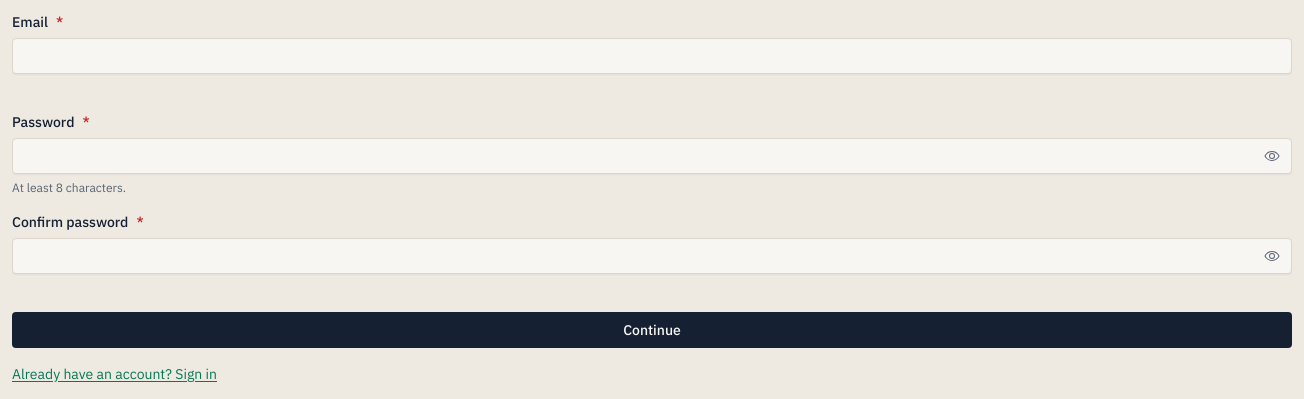
SignupForm › flags a mismatched confirmation password inline, without submitting
Type "a@b.com" into the field labelled "Email *" at (652, 56), box [12,38,1292,74]
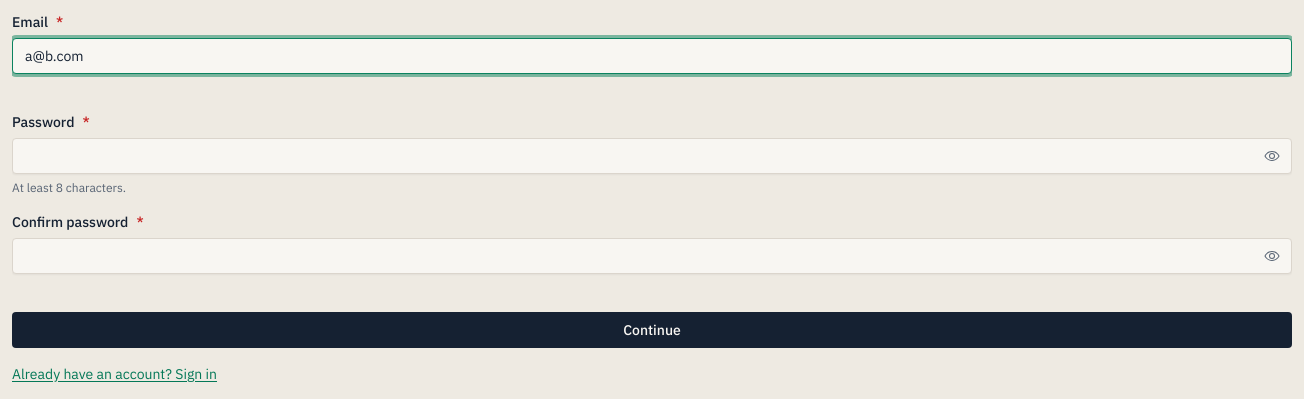
Type "password123" into the password field labelled "Password *" at (652, 156), box [12,138,1292,174]
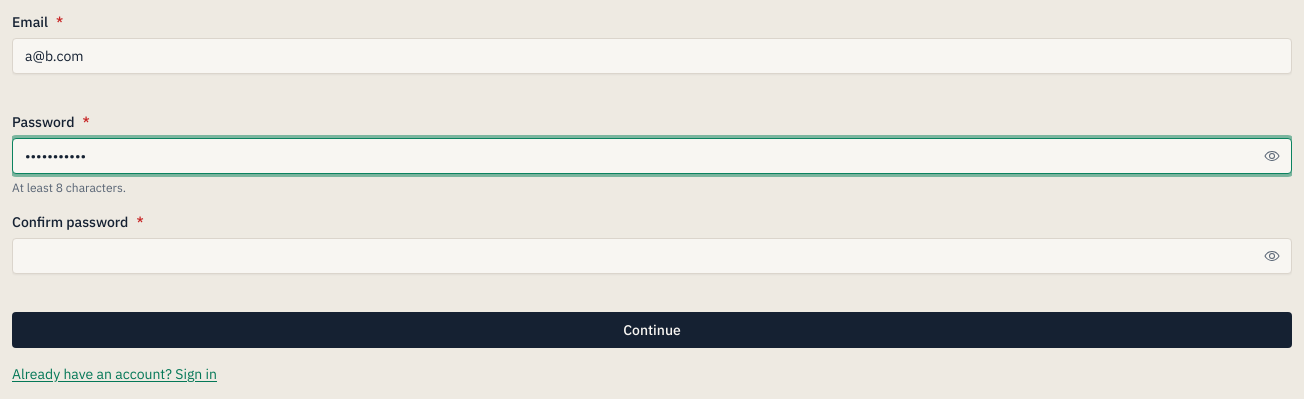
Type "different123" into the password field labelled "Confirm password *" at (652, 256), box [12,238,1292,274]
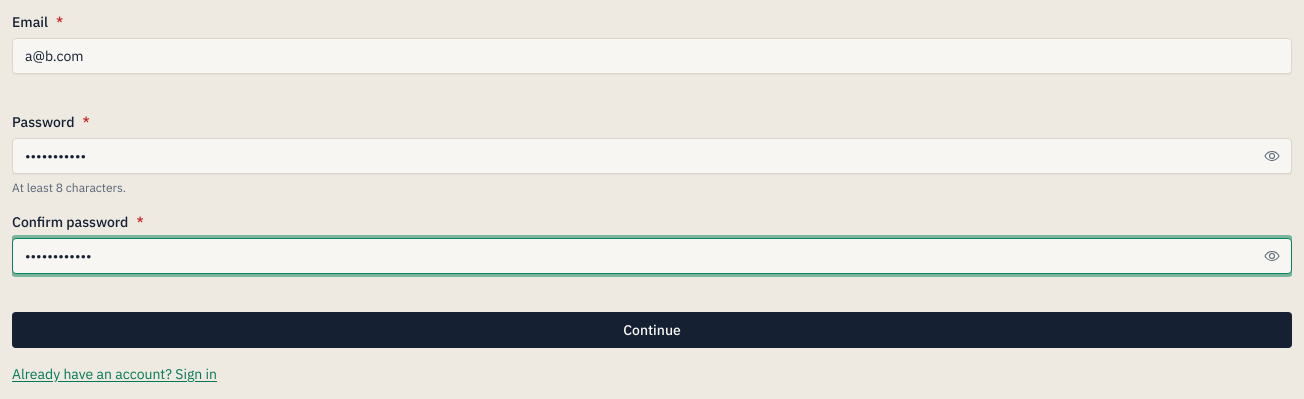
Click the button "Continue" at (652, 330), box [12,312,1292,348]
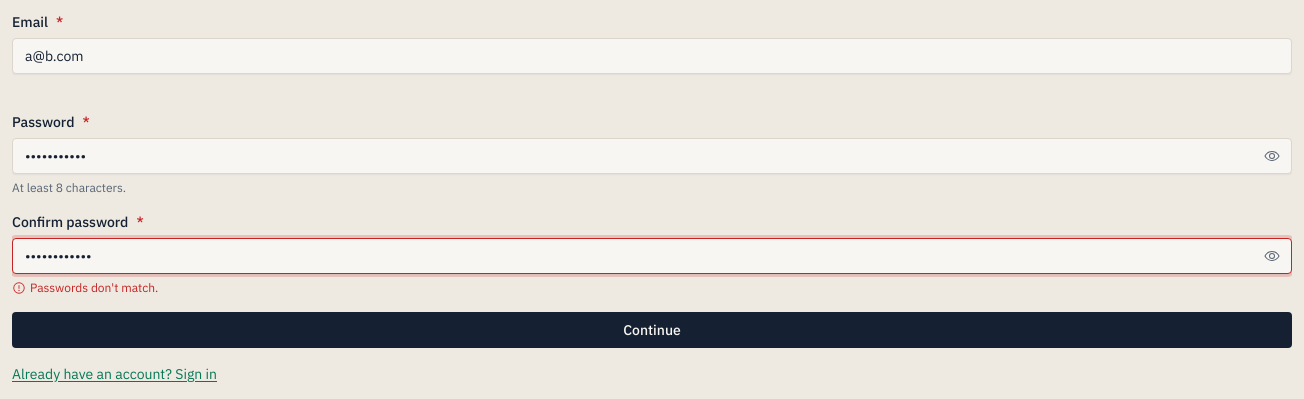
Expected: the text "Passwords don't match." is shown, [12,280,158,295]
